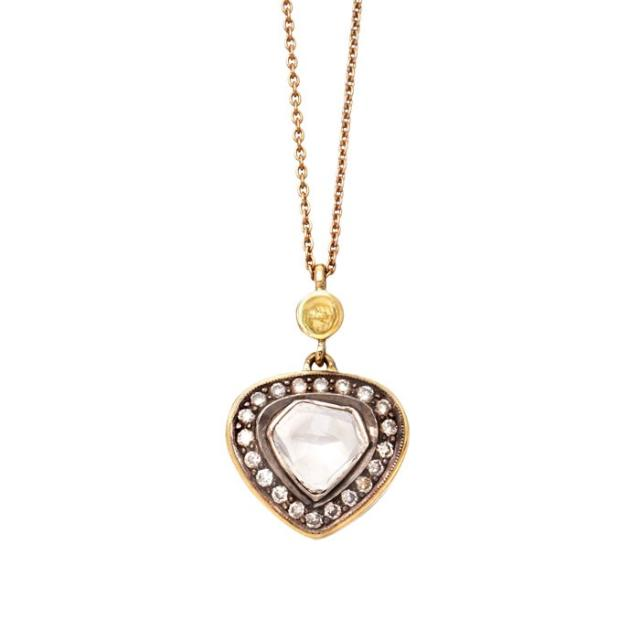missing gem: (303, 296, 339, 333)
